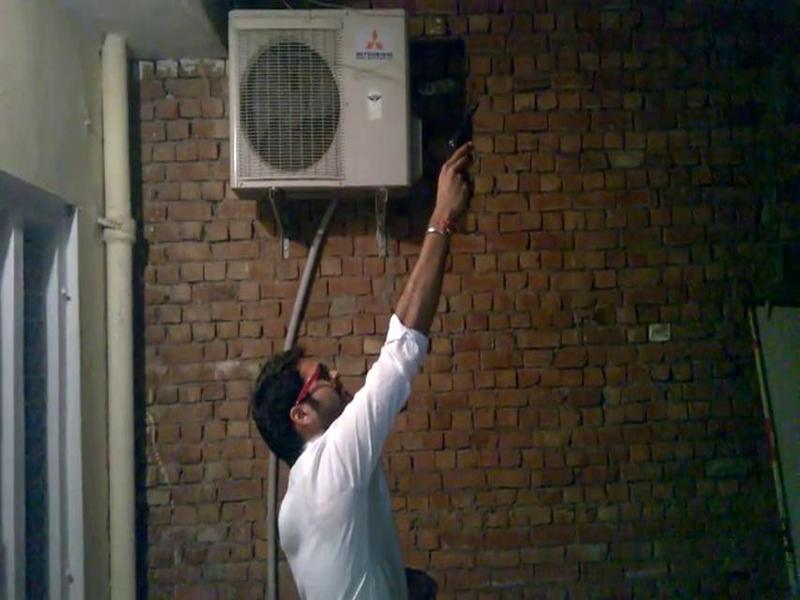Revolver: (432, 98, 501, 204)
